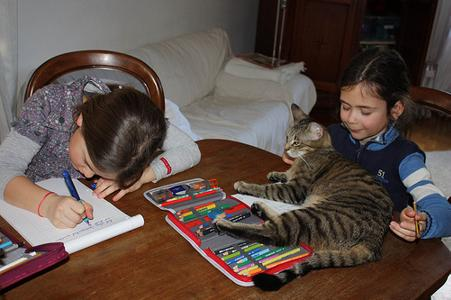person: (3, 79, 203, 228)
